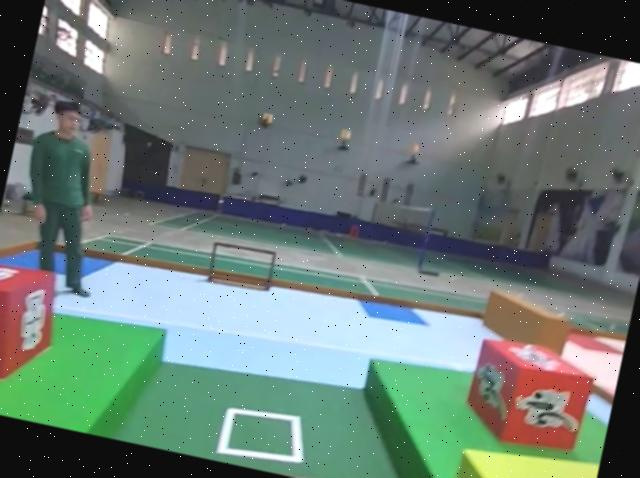R1: (458, 331, 601, 463)
R2 Real: (0, 254, 66, 403)
